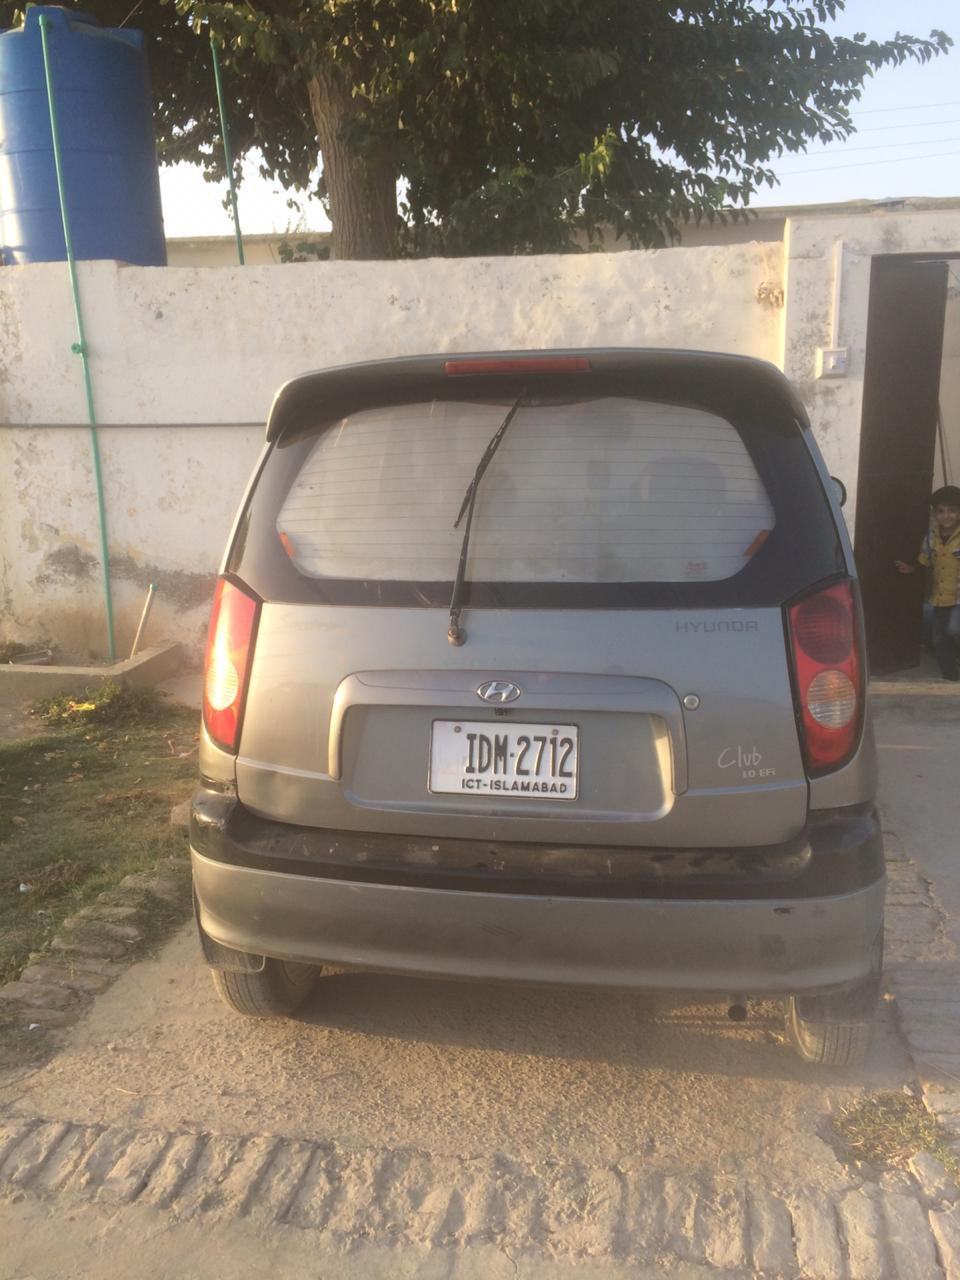license plate: (432, 718, 581, 803)
